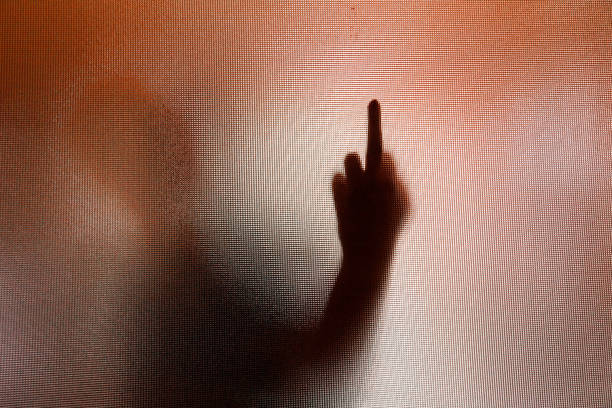insulting_gesture: (328, 90, 412, 268)
